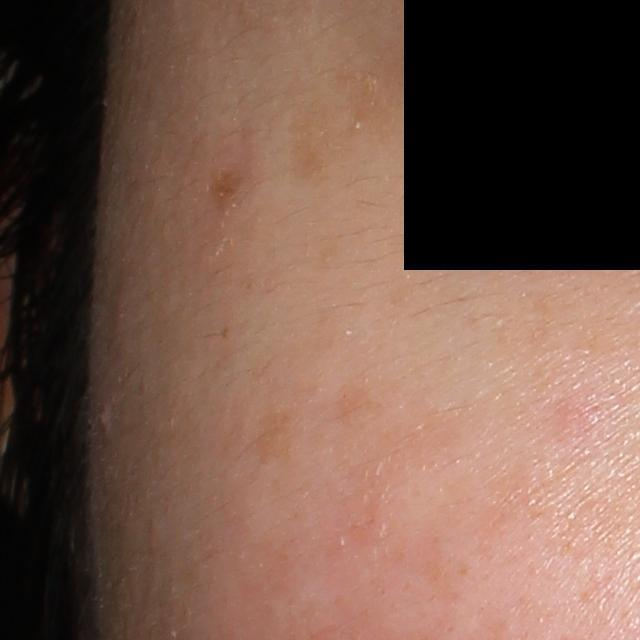melasma: (284, 53, 401, 194), (254, 382, 320, 467), (325, 375, 391, 429), (207, 157, 258, 220)
